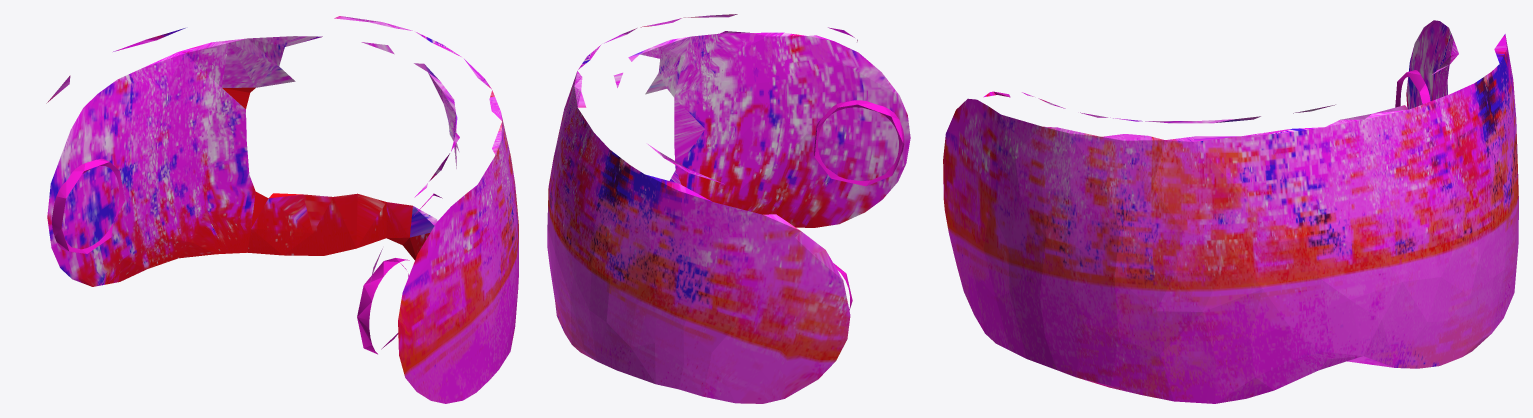
The model's file is visor2.glb.
3 renders of one model, left to right at view 1: azimuth 30°, elevation 25°; view 2: azimuth 150°, elevation 25°; view 3: azimuth 270°, elevation 25°, orthographic. The views are drawn at different scales.
Visible parts, largest first — view 1: _visor_pantalla:Mesh; view 2: _visor_pantalla:Mesh; view 3: _visor_pantalla:Mesh.
Boxes of the visible parts, x1,y1,x2,y2 form: _visor_pantalla:Mesh: [46, 16, 518, 403]; _visor_pantalla:Mesh: [547, 14, 910, 403]; _visor_pantalla:Mesh: [943, 20, 1518, 403].
Size of the model in its own units: 0.0946 by 0.0563 by 0.1105.
Materials: 1 (1 with a texture image).
